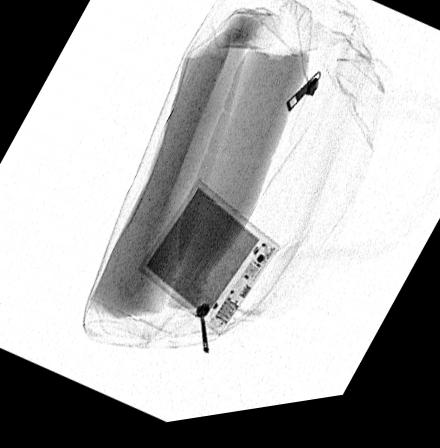Powerbank: (135, 183, 281, 344)
